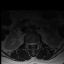CCS_normal: (32, 40, 33, 48)
LFS_normal: (35, 41, 37, 46)
LLS_normal: (33, 40, 35, 47)
RFS_normal: (27, 41, 30, 46)
RLS_normal: (30, 41, 31, 47)
